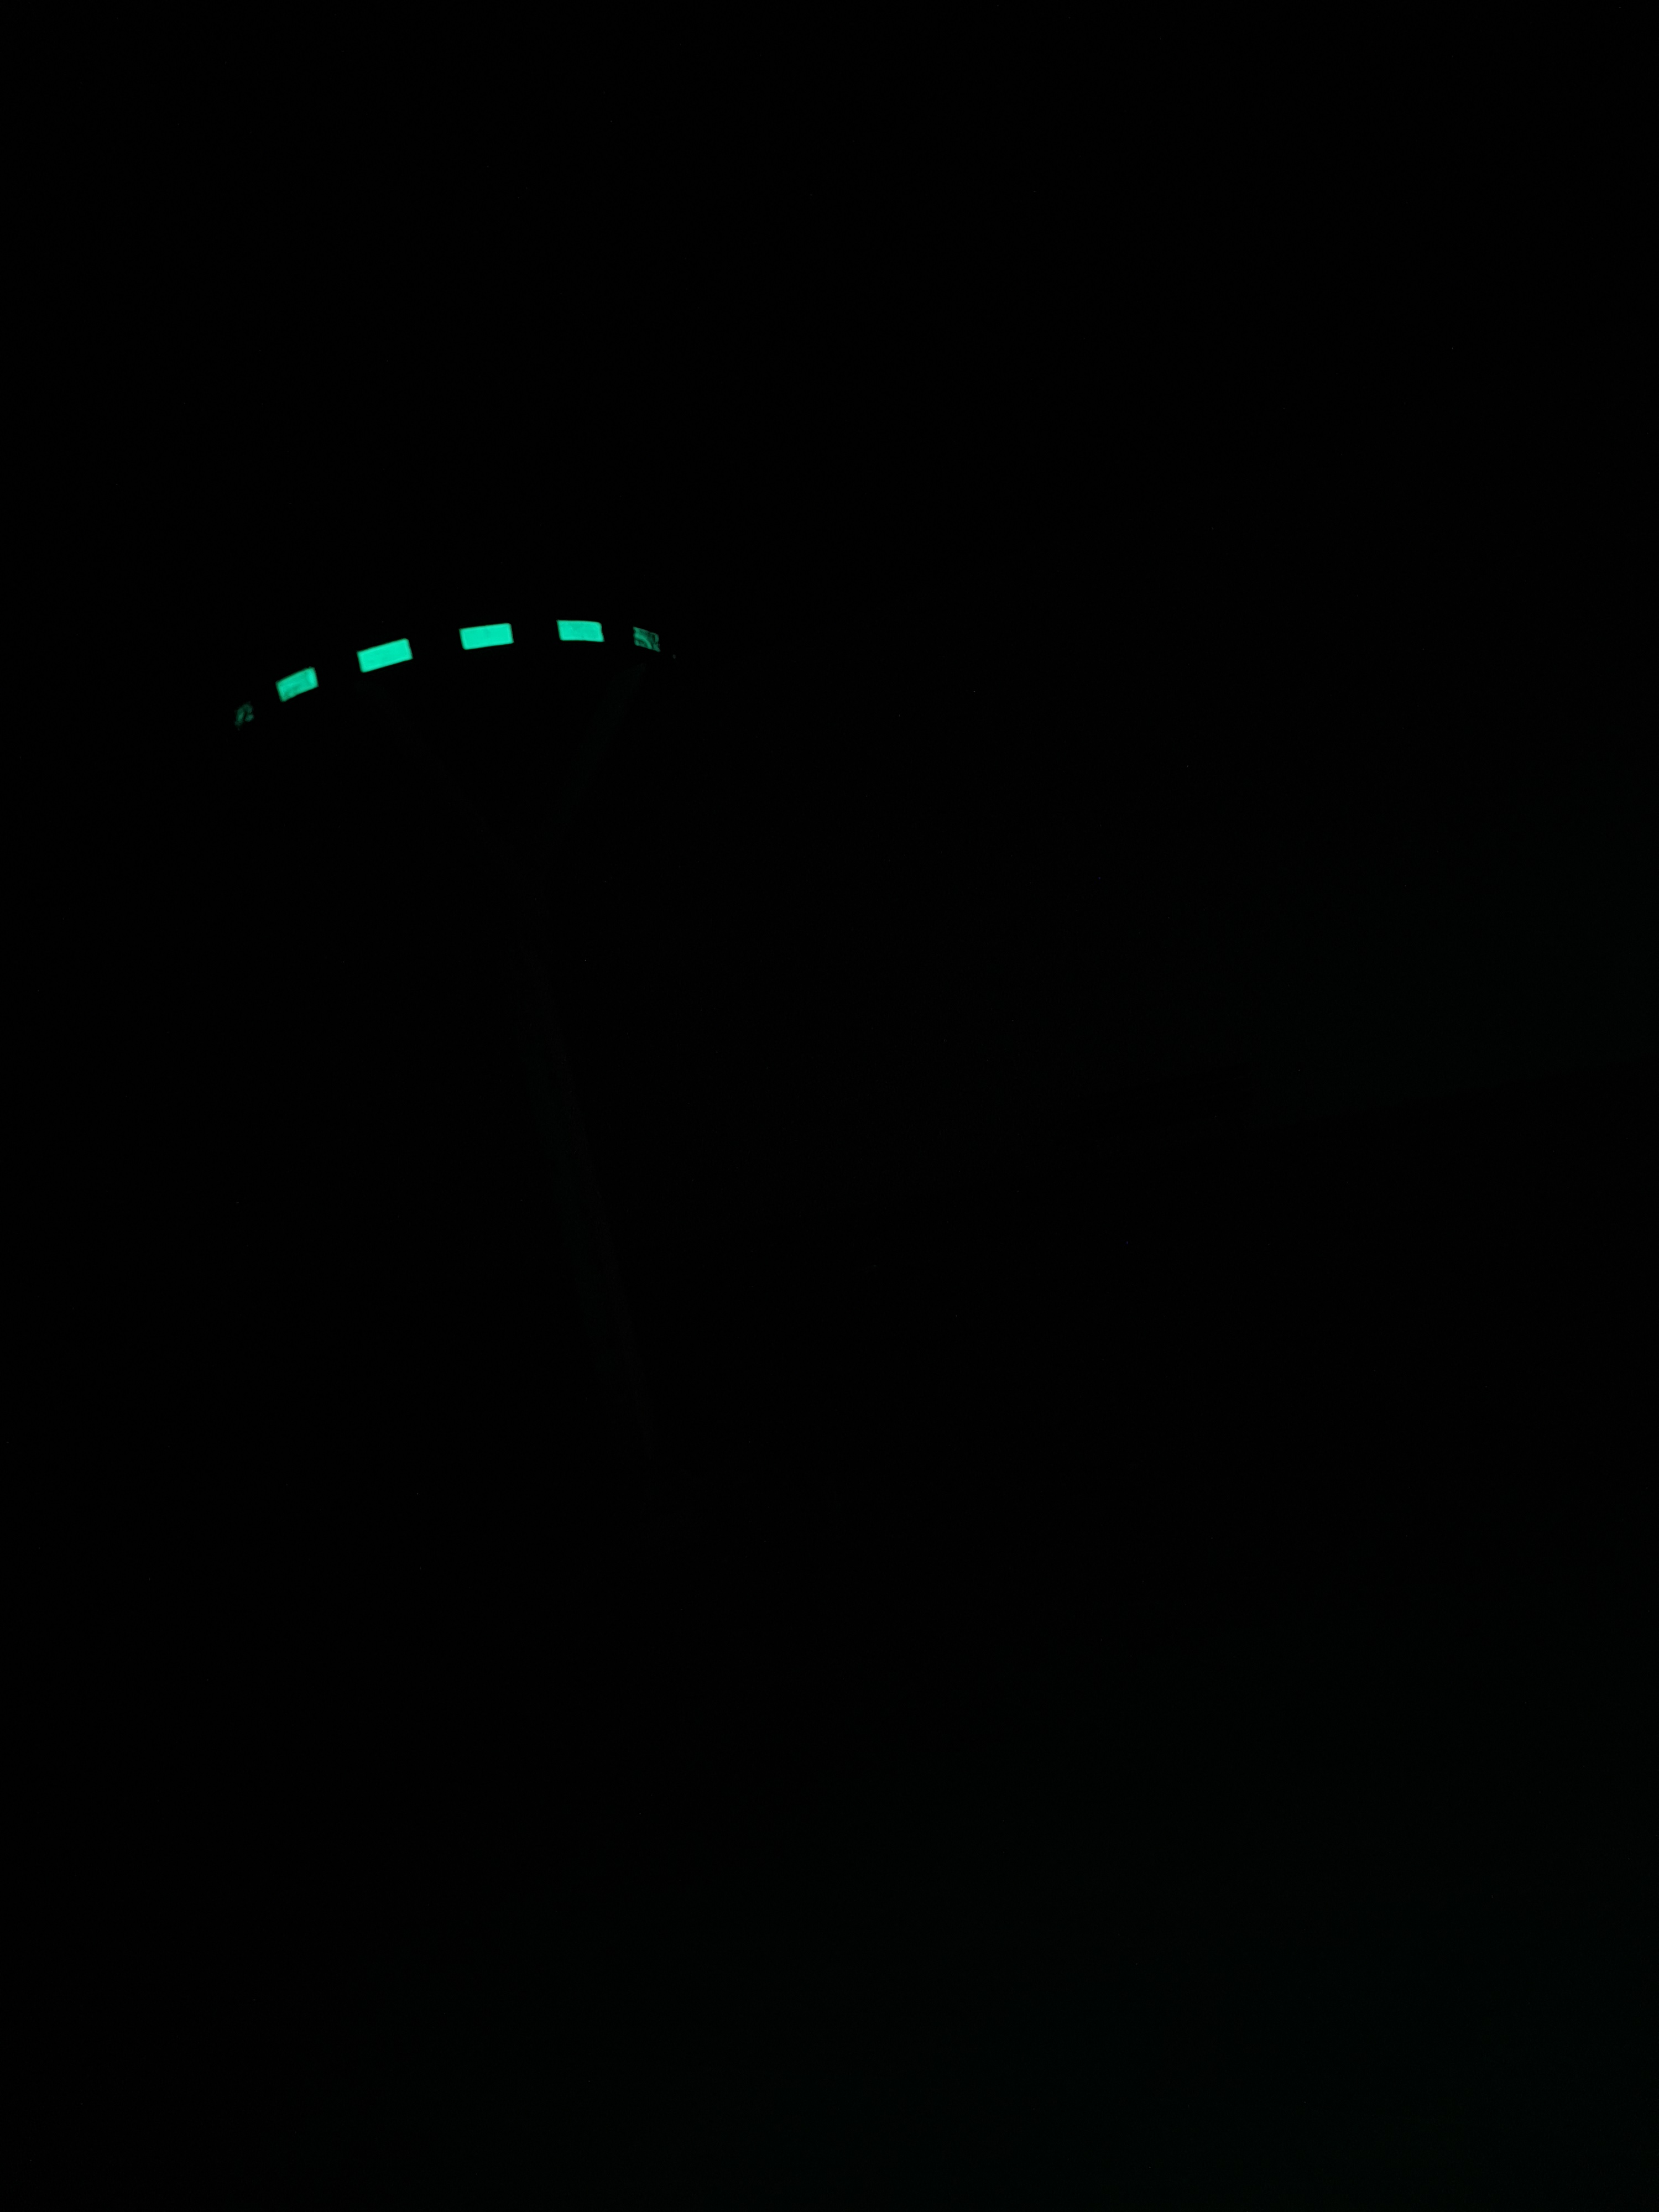hoop: (234, 615, 664, 726)
